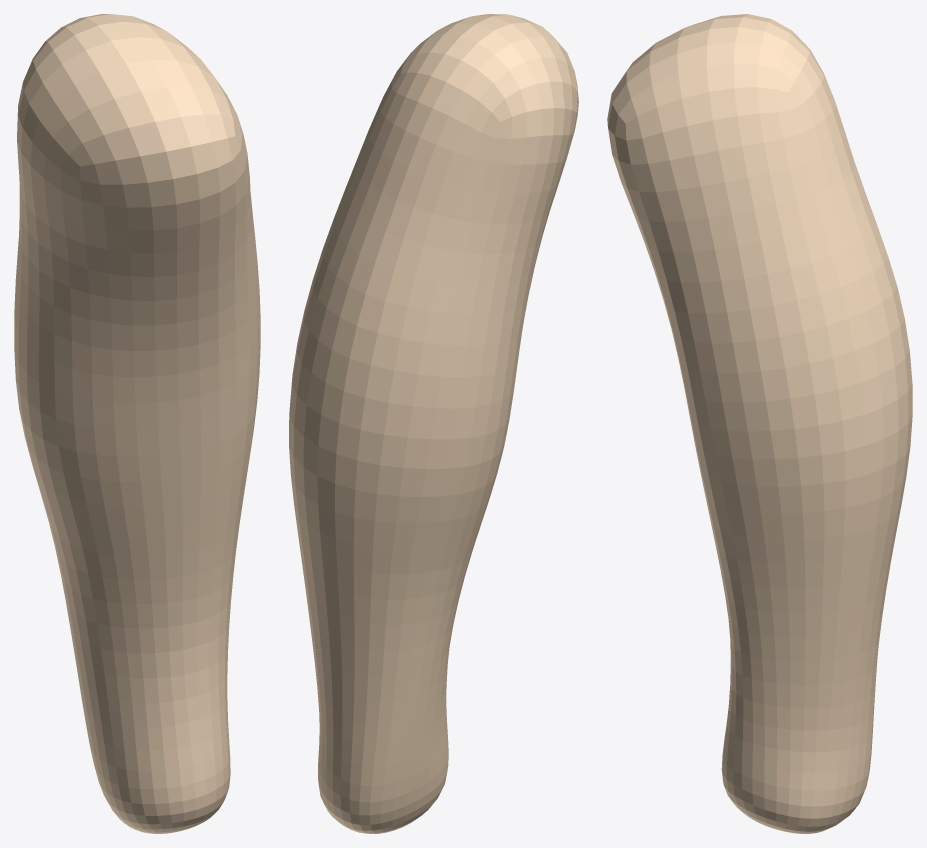
File: LeftShin.fbx
The picture shows the model from 3 angles, left to right: view 1: azimuth 30°, elevation 25°; view 2: azimuth 150°, elevation 25°; view 3: azimuth 270°, elevation 25°; orthographic projection. The views are drawn at different scales.
Parts seen in each view (by area): view 1: LeftShin; view 2: LeftShin; view 3: LeftShin.
Boxes of the visible parts, box(x1,y1,x2,y2) form: LeftShin: box(14, 14, 260, 833); LeftShin: box(289, 14, 578, 833); LeftShin: box(607, 14, 912, 833).
Size of the model in its own units: 0.1294 by 0.4356 by 0.1571.
